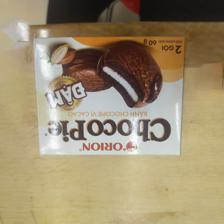Chocopie_cacao: (29, 34, 187, 158)
